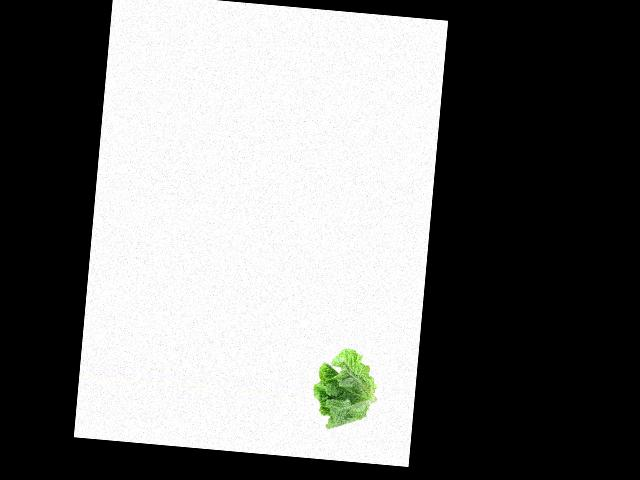lettuce: (310, 346, 378, 434)
